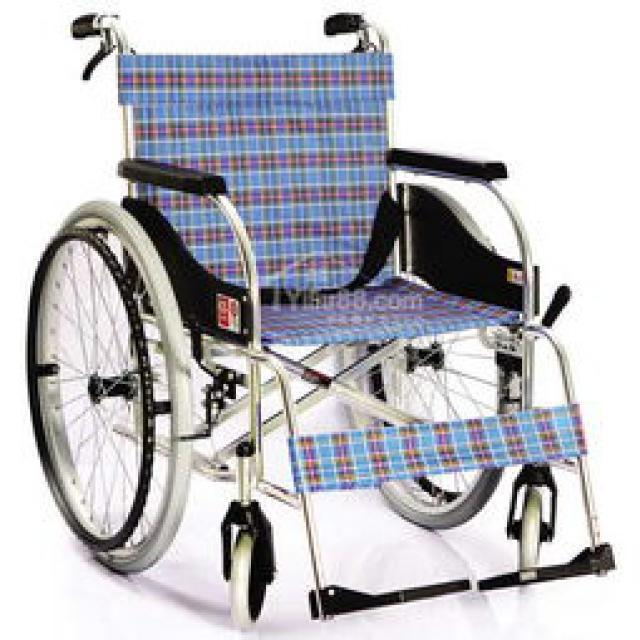wheelchair: (20, 5, 638, 622)
